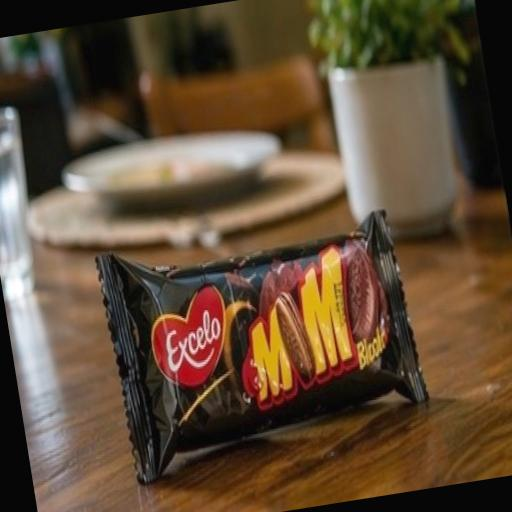MOMO: (56, 113, 464, 512)
